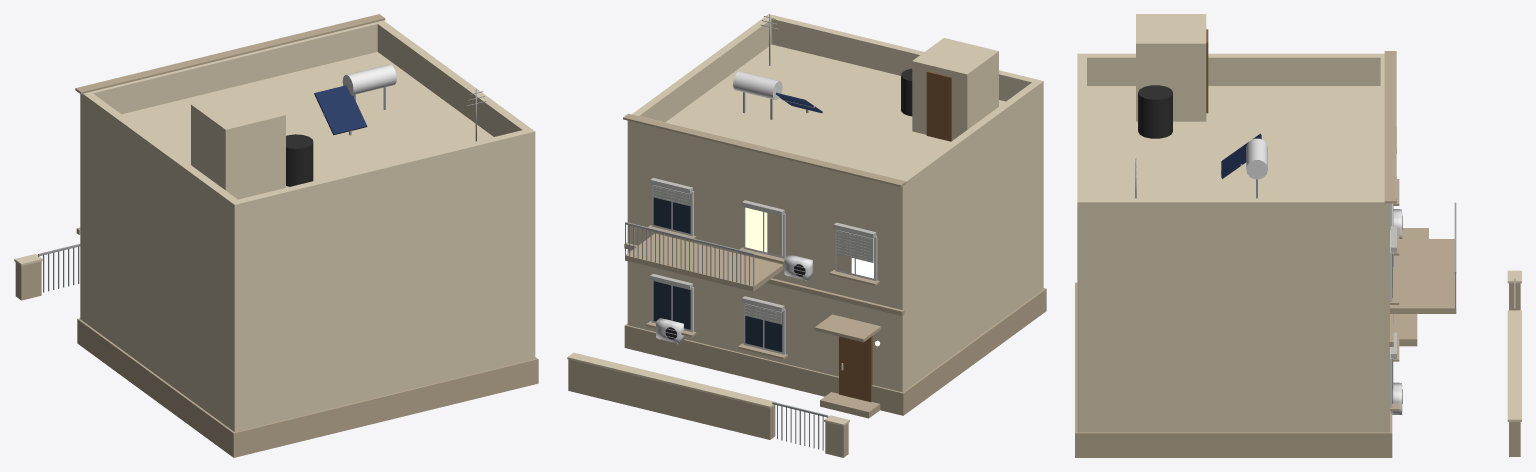
The model's file is house_flat.glb.
The picture shows the model from 3 angles, left to right: view 1: azimuth 30°, elevation 25°; view 2: azimuth 150°, elevation 25°; view 3: azimuth 270°, elevation 25°; orthographic projection. The views are drawn at different scales.
Parts seen in each view (by area): view 1: housemesh; view 2: housemesh; view 3: housemesh.
Boxes of the visible parts, left/top/right/bottom form: housemesh: left=14, top=14, right=538, bottom=457; housemesh: left=567, top=14, right=1046, bottom=457; housemesh: left=1075, top=14, right=1521, bottom=457.
Size of the model in its own units: 9.12 by 8.6 by 11.44.
